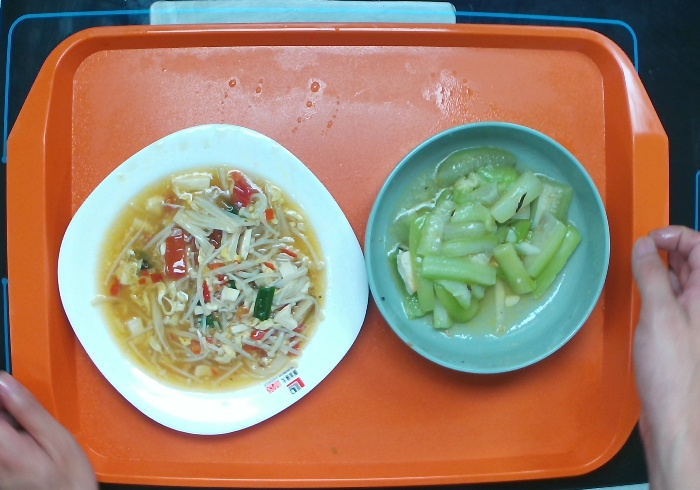ZNLD-Qing_Hua_Yuan_Wan: (360, 119, 612, 379)
ZNLD-Yuan_Jiao_Pan: (51, 116, 374, 439)
